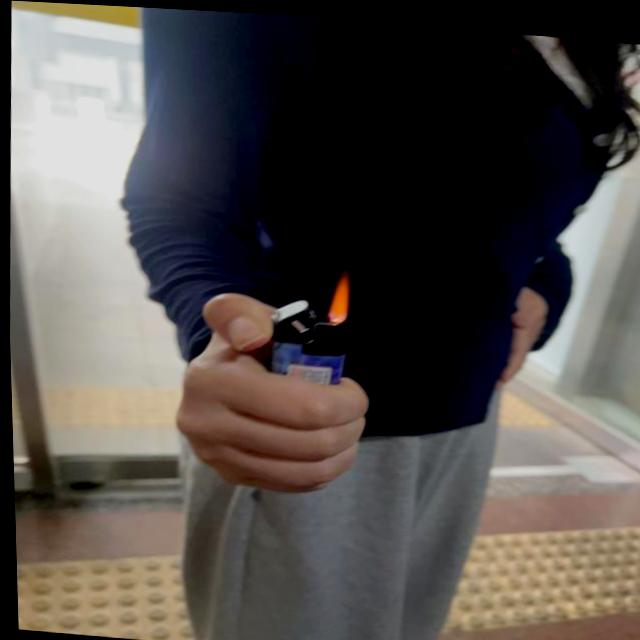Fire: (323, 272, 350, 323)
